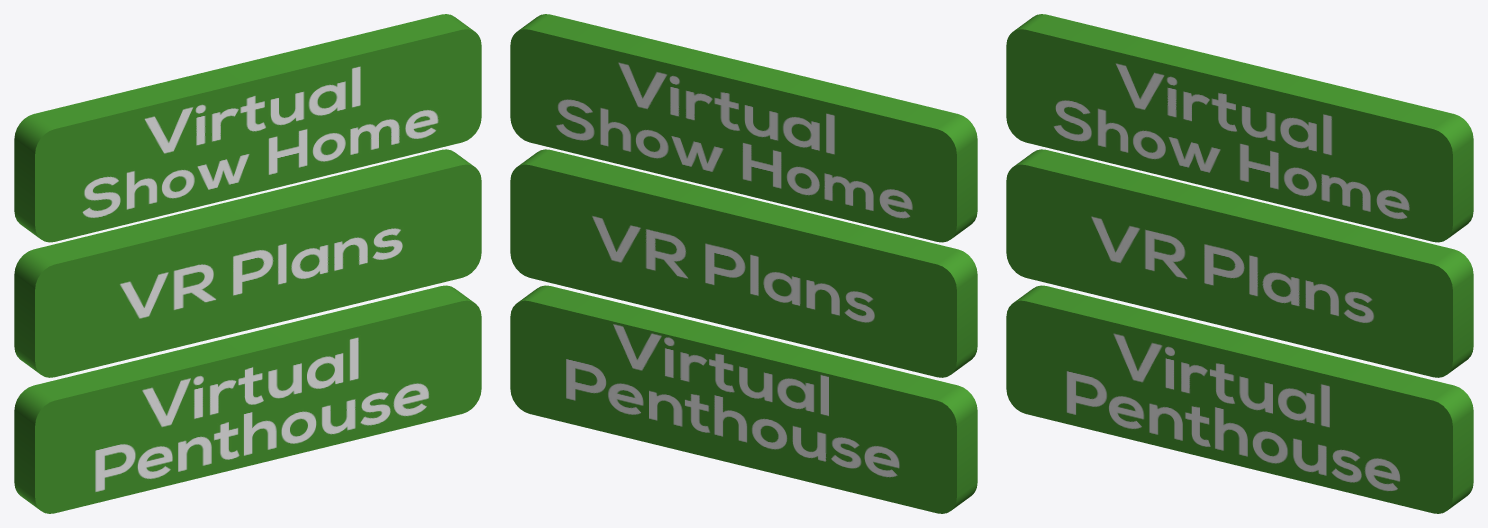
The model's file is ArchVis Buttons.fbx.
The picture shows the model from 3 angles, left to right: view 1: azimuth 30°, elevation 25°; view 2: azimuth 150°, elevation 25°; view 3: azimuth 330°, elevation 25°; orthographic projection.
Visible parts, largest first — view 1: Button02, Button03, Button01; view 2: Button02, Button03, Button01; view 3: Button02, Button03, Button01.
Boxes of the visible parts, x1,y1,x2,y2 form: Button02: (14, 149, 481, 377); Button03: (14, 285, 481, 513); Button01: (14, 14, 481, 242); Button02: (510, 149, 977, 377); Button03: (510, 285, 977, 513); Button01: (510, 14, 977, 242); Button02: (1006, 149, 1473, 377); Button03: (1006, 285, 1473, 513); Button01: (1006, 14, 1473, 242).
Bounding box in the file's own units: 124 × 102 × 10.
